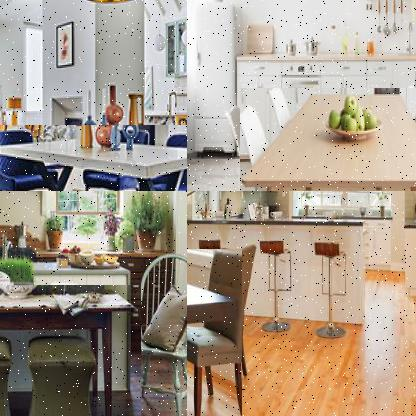table: (0, 285, 143, 415), (239, 88, 415, 190), (0, 125, 186, 190), (187, 249, 244, 415)
